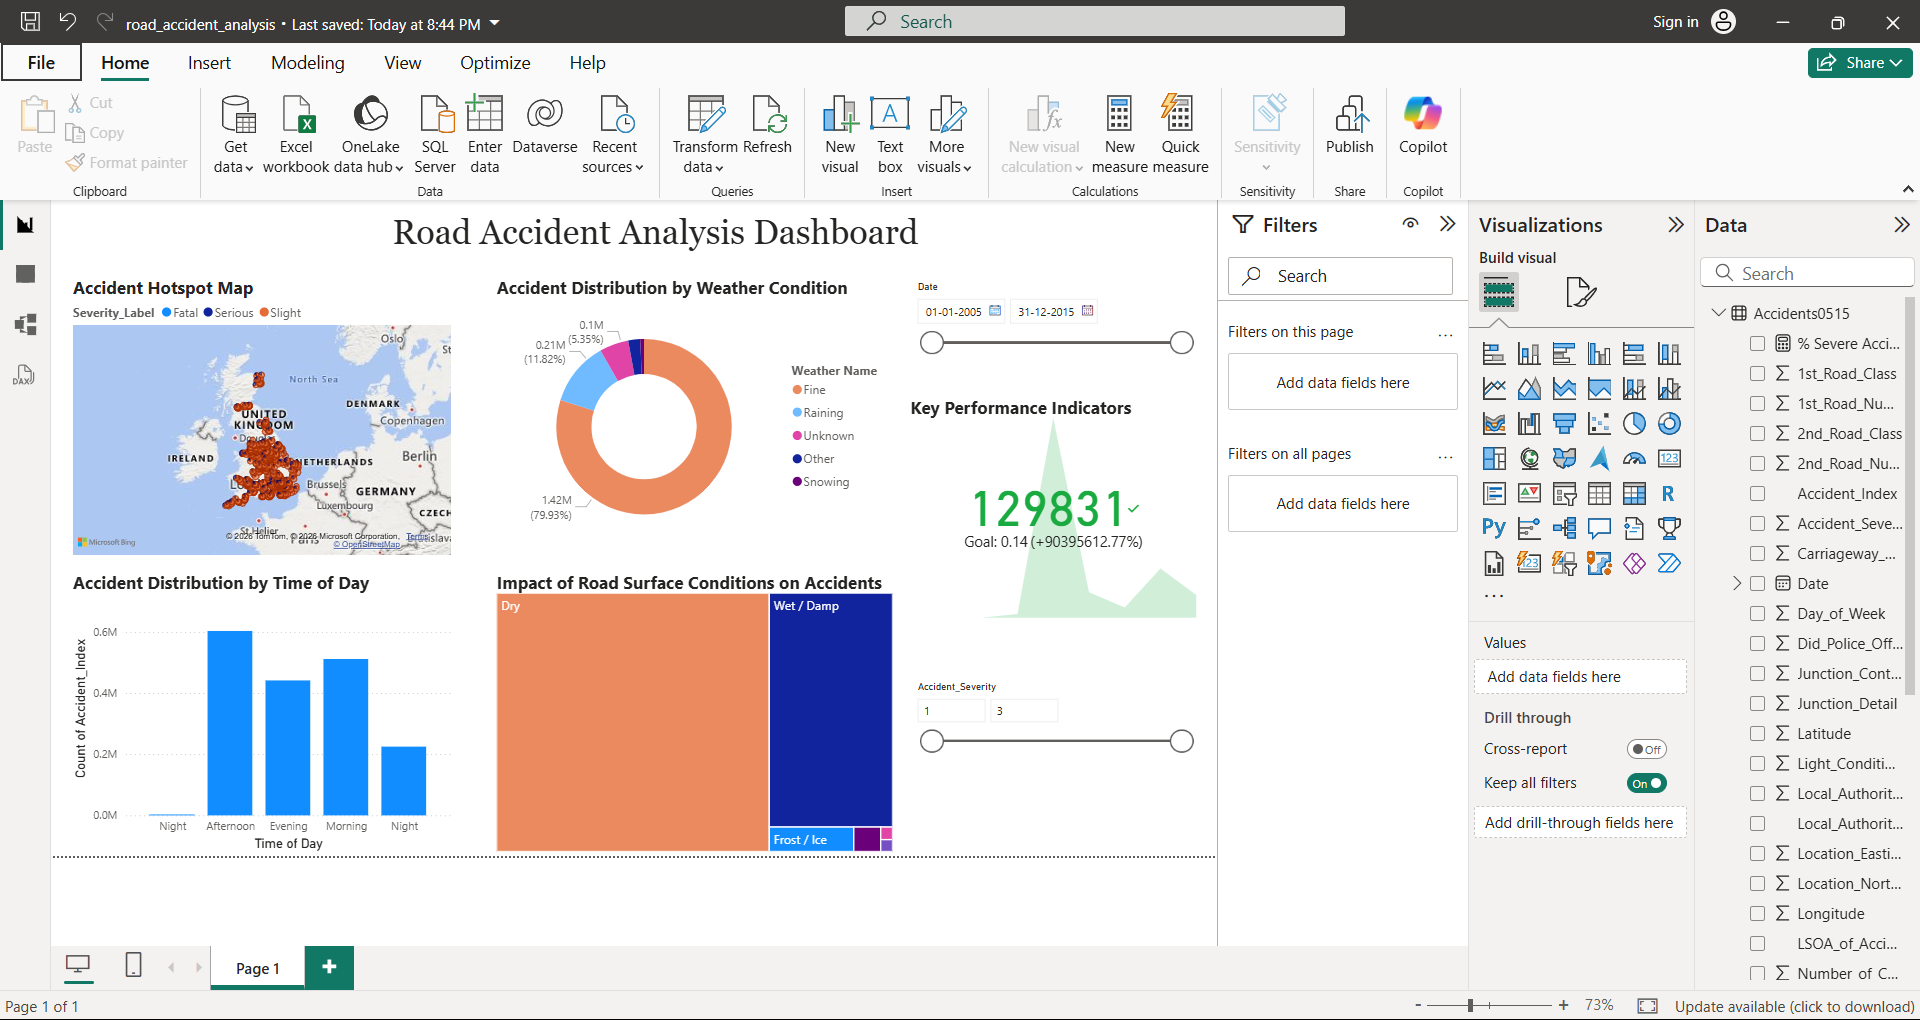

What the dashboard file says about the page in this screenshot:
{"tool":"powerbi","page":{"name":"Page 1","canvas":[1280,720],"ordinal":0},"visuals":[{"type":"map","title":"Accident Hotspot Map","fields":{"Y":["Accidents0515.Latitude"],"X":["Accidents0515.Longitude"],"Size":["CountNonNull(Accidents0515.Accident_Index)"],"Series":["Accidents0515.Severity_Label"]},"box":[19.2,83.7,425.4,311.5],"z":0},{"type":"donutChart","title":"Accident Distribution by Weather Condition","fields":{"Y":["CountNonNull(Accidents0515.Accident_Index)"],"Category":["Accidents0515.Weather Name"]},"box":[484.4,83.7,444.6,311.5],"z":2000},{"type":"treemap","title":"Impact of Road Surface Conditions on Accidents","fields":{"Values":["CountNonNull(Accidents0515.Accident_Index)"],"Group":["Accidents0515.Road Condition Name"]},"box":[484.4,407.5,444.6,312.9],"z":3000},{"type":"slicer","fields":{"Values":["Accidents0515.Date"]},"box":[929,83.7,323.8,131.7],"z":4000},{"type":"textbox","box":[358.1,9.6,610.6,74.1],"z":5000},{"type":"clusteredColumnChart","title":"Accident Distribution by Time of Day","fields":{"Category":["Accidents0515.Time of Day"],"Y":["CountNonNull(Accidents0515.Accident_Index)"]},"box":[19,408,425,312],"z":5001},{"type":"kpi","title":"Key Performance Indicators","fields":{"Indicator":["CountNonNull(Accidents0515.Accident_Index)"],"TrendLine":["Accidents0515.Speed_limit"],"Goal":["Accidents0515.% Severe Accidents"]},"box":[938.6,215.4,323.8,248.4],"z":5002},{"type":"slicer","fields":{"Values":["Accidents0515.Accident_Severity"]},"box":[938.6,522.8,323.8,129],"z":5003}]}

Visuals, with their boxes on the page's 1280x720 design canvas (x1, y1, x2, y2). These are canvas units, not pixel positions in the 1920x1020 screenshot, which may show the page scaled, cropped or inside an application window:
"Accident Hotspot Map" map: region(19, 84, 445, 395)
"Accident Distribution by Weather Condition" donutChart: region(484, 84, 929, 395)
"Impact of Road Surface Conditions on Accidents" treemap: region(484, 408, 929, 720)
slicer - Accidents0515.Date: region(929, 84, 1253, 215)
textbox: region(358, 10, 969, 84)
"Accident Distribution by Time of Day" clusteredColumnChart: region(19, 408, 444, 720)
"Key Performance Indicators" kpi: region(939, 215, 1262, 464)
slicer - Accidents0515.Accident_Severity: region(939, 523, 1262, 652)
